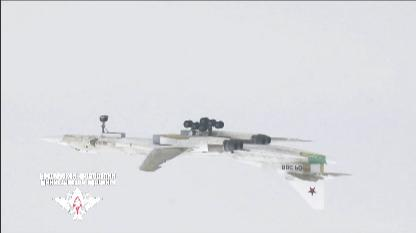Su34: (38, 114, 350, 210)
